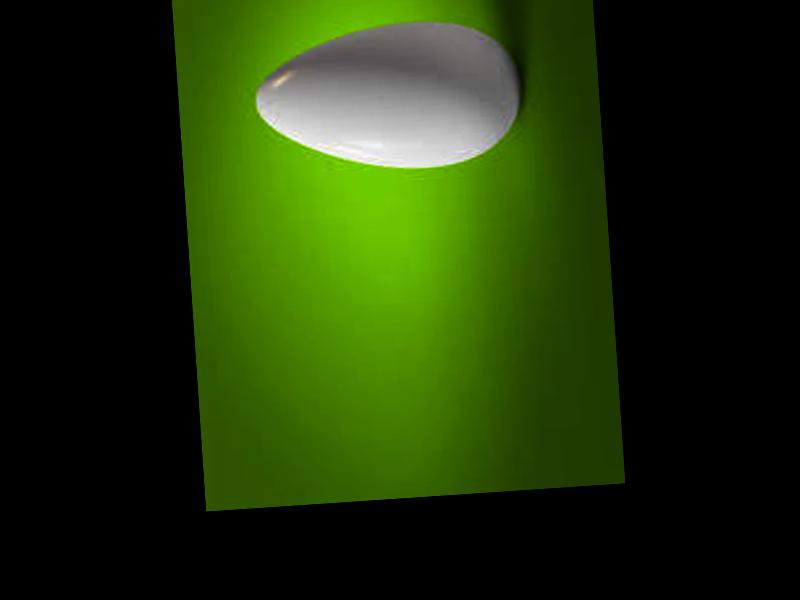Eggs: (247, 15, 523, 179)
